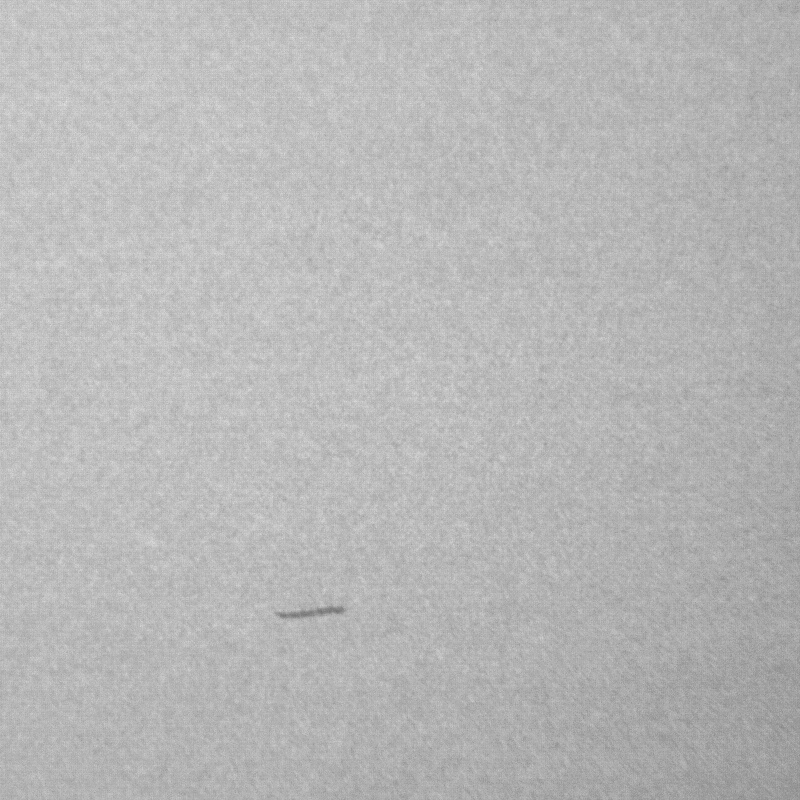defect: (273, 606, 354, 619)
